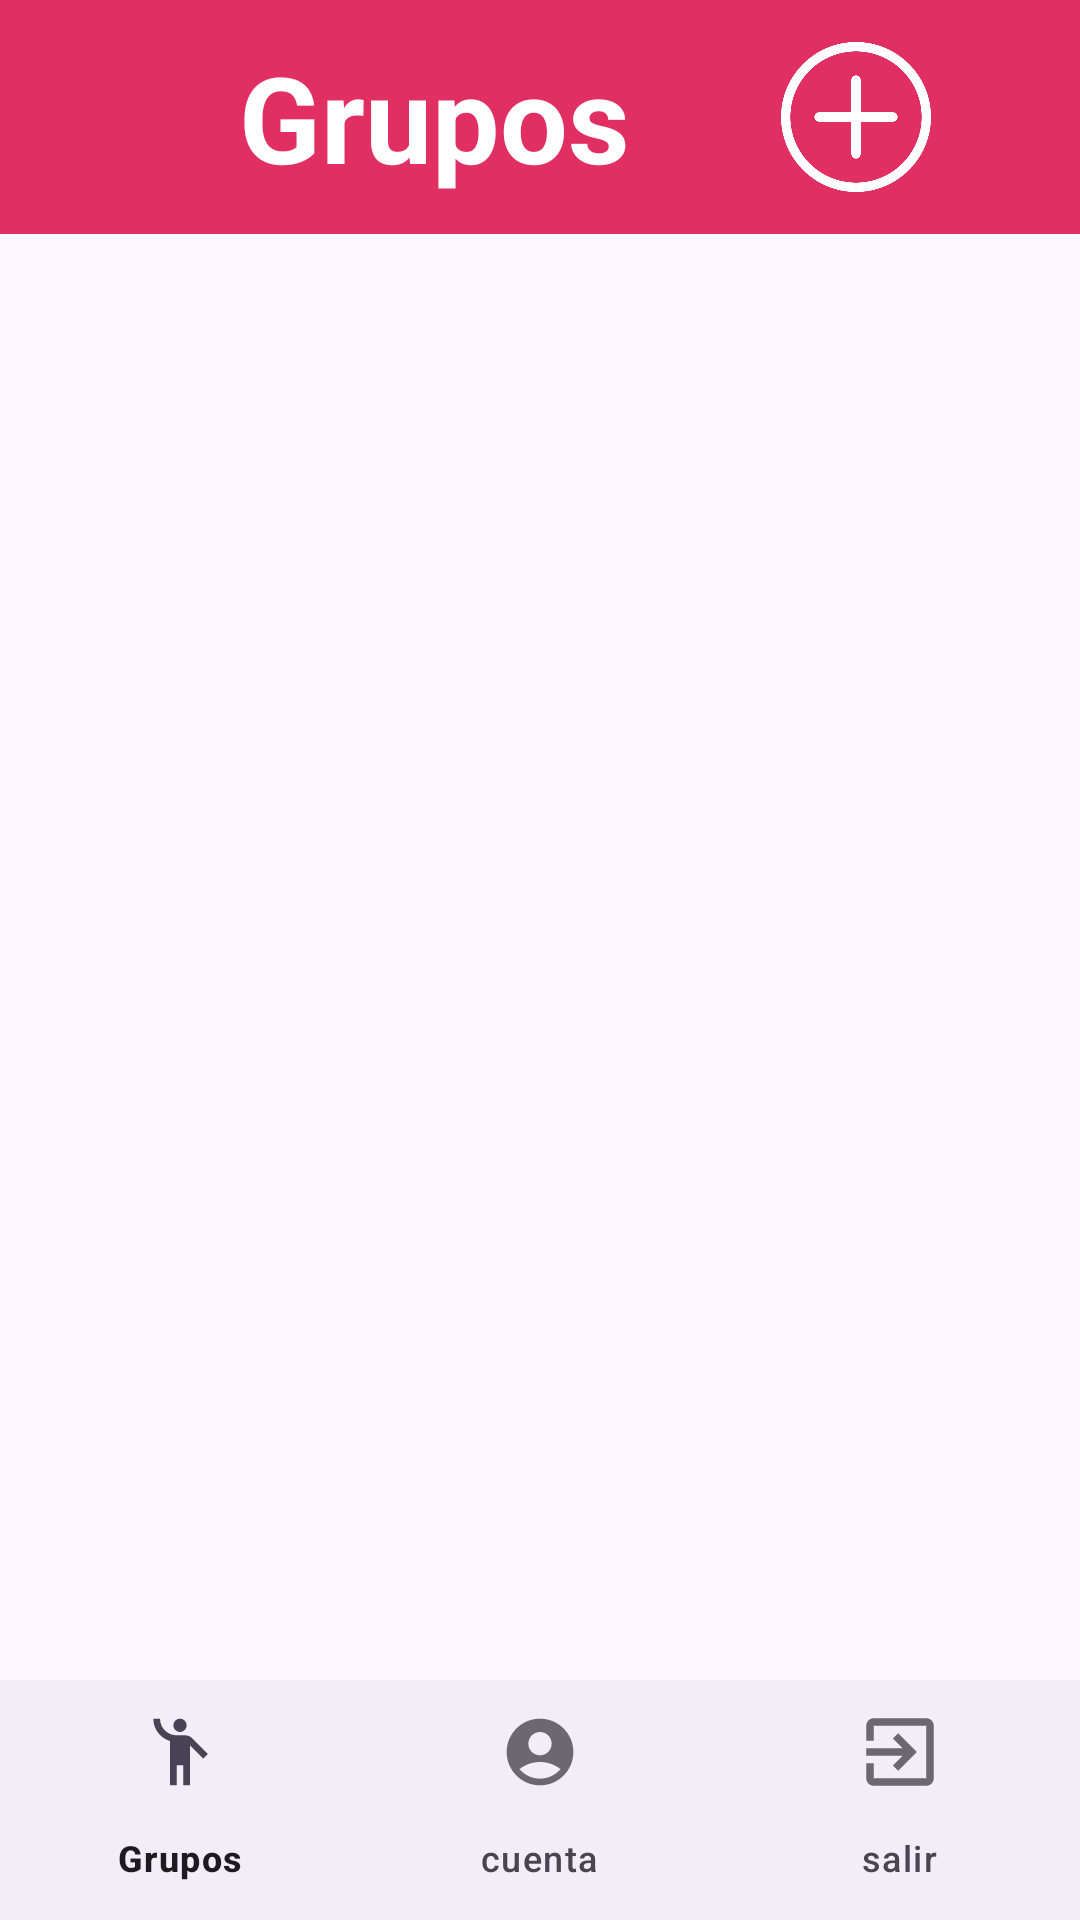

Icon click points for this 1080×1920 phone screenshot, format (x,y):
mas: (856,117)
